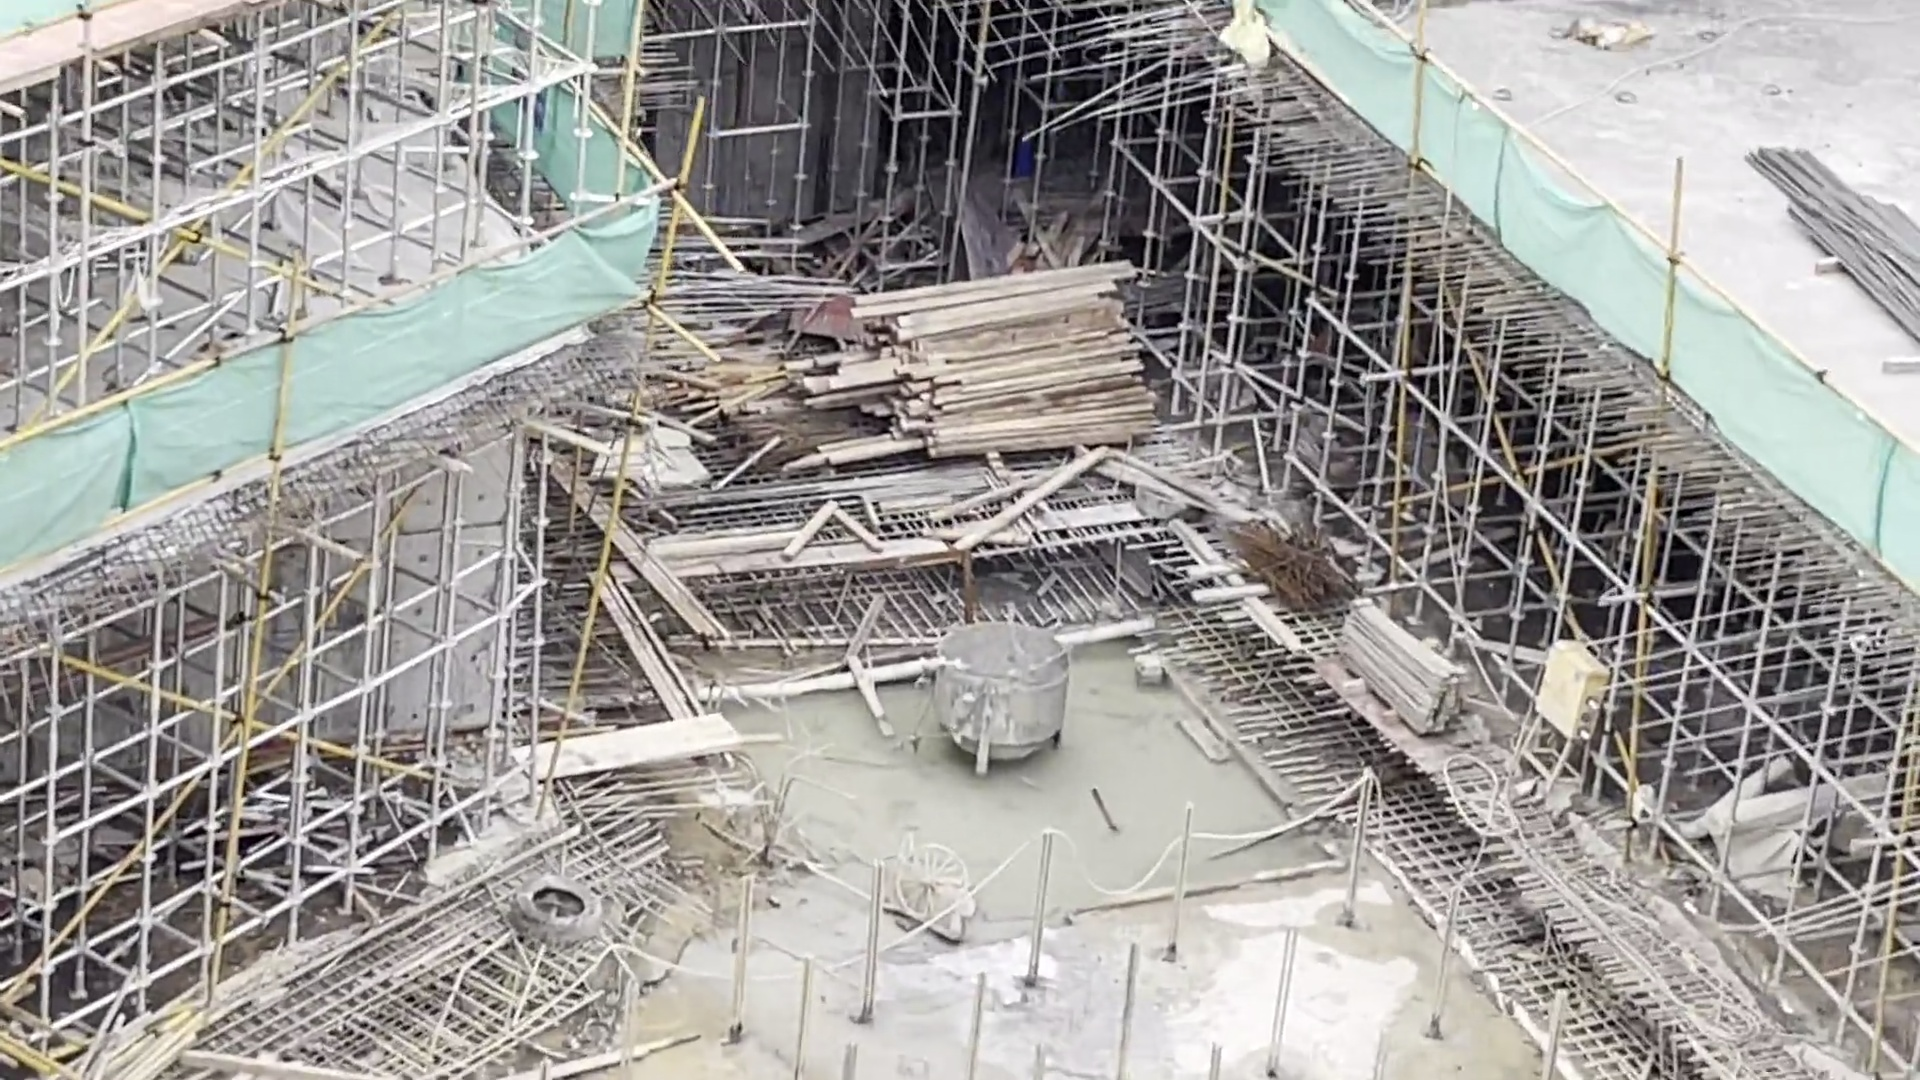wood: (852, 252, 1160, 463)
